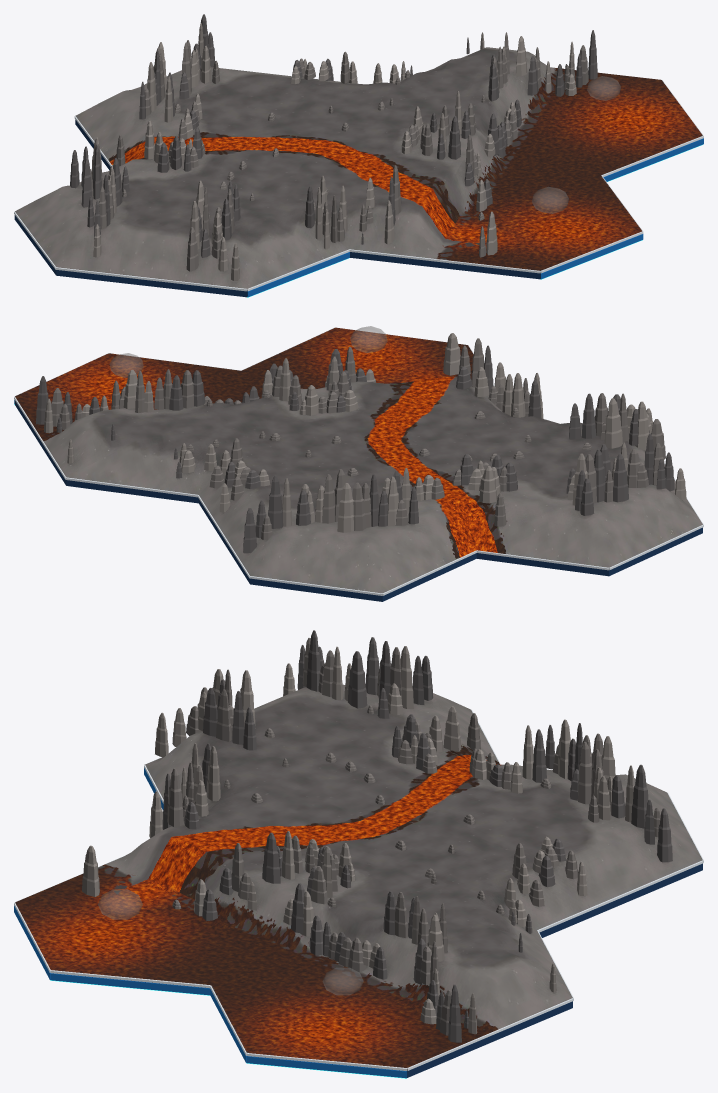
File: field_cm07_01.glb
The picture shows the model from 3 angles, top to bottom: view 1: azimuth 30°, elevation 25°; view 2: azimuth 150°, elevation 25°; view 3: azimuth 270°, elevation 25°; orthographic projection. The views are drawn at different scales.
Parts seen in each view (by area): view 1: field_cm07_01-surface, crags-el-basalt, crags-el-basalt-light, crags-el-basalt-mid, field_cm07_01-foundation, volcano-smoke-0, volcano-rocks-joined, shallow-blue-fascia.003, shallow-blue-fascia.004, shallow-blue-fascia.001, volcano-smoke-1, flush-porcelain-joint.011 (+1 smaller); view 2: field_cm07_01-surface, crags-el-basalt-light, crags-el-basalt, crags-el-basalt-mid, field_cm07_01-foundation, volcano-rocks-joined, volcano-smoke-0, volcano-smoke-1; view 3: field_cm07_01-surface, crags-el-basalt, crags-el-basalt-light, crags-el-basalt-mid, field_cm07_01-foundation, volcano-rocks-joined, shallow-blue-fascia, shallow-blue-fascia.002, volcano-smoke-0, volcano-smoke-1.
Boxes of the visible parts, x1=… form: field_cm07_01-surface: x1=15, y1=47, x2=702, y2=288; crags-el-basalt: x1=70, y1=14, x2=597, y2=257; crags-el-basalt-light: x1=91, y1=23, x2=576, y2=280; crags-el-basalt-mid: x1=90, y1=32, x2=588, y2=271; field_cm07_01-foundation: x1=14, y1=119, x2=540, y2=297; volcano-smoke-0: x1=532, y1=187, x2=568, y2=213; volcano-rocks-joined: x1=122, y1=70, x2=485, y2=220; shallow-blue-fascia.003: x1=540, y1=234, x2=642, y2=279; shallow-blue-fascia.004: x1=247, y1=252, x2=349, y2=297; shallow-blue-fascia.001: x1=603, y1=138, x2=703, y2=181; volcano-smoke-1: x1=587, y1=76, x2=620, y2=100; flush-porcelain-joint.011: x1=349, y1=249, x2=540, y2=273; field_cm07_01-surface: x1=15, y1=327, x2=702, y2=593; crags-el-basalt-light: x1=44, y1=333, x2=686, y2=532; crags-el-basalt: x1=36, y1=345, x2=674, y2=553; crags-el-basalt-mid: x1=51, y1=338, x2=665, y2=540; field_cm07_01-foundation: x1=15, y1=401, x2=702, y2=601; volcano-rocks-joined: x1=187, y1=390, x2=591, y2=476; volcano-smoke-0: x1=350, y1=326, x2=387, y2=352; volcano-smoke-1: x1=109, y1=353, x2=143, y2=377; field_cm07_01-surface: x1=15, y1=684, x2=702, y2=1067; crags-el-basalt: x1=162, y1=630, x2=672, y2=1042; crags-el-basalt-light: x1=82, y1=646, x2=634, y2=1034; crags-el-basalt-mid: x1=85, y1=638, x2=660, y2=1035; field_cm07_01-foundation: x1=53, y1=863, x2=702, y2=1077; volcano-rocks-joined: x1=172, y1=705, x2=551, y2=913; shallow-blue-fascia: x1=246, y1=1056, x2=406, y2=1078; shallow-blue-fascia.002: x1=50, y1=973, x2=210, y2=995; volcano-smoke-0: x1=98, y1=889, x2=142, y2=919; volcano-smoke-1: x1=322, y1=967, x2=363, y2=995.
Size of the model in its own units: 19.17 by 2.53 by 14.93.
Materials: 9 (1 with a texture image).
